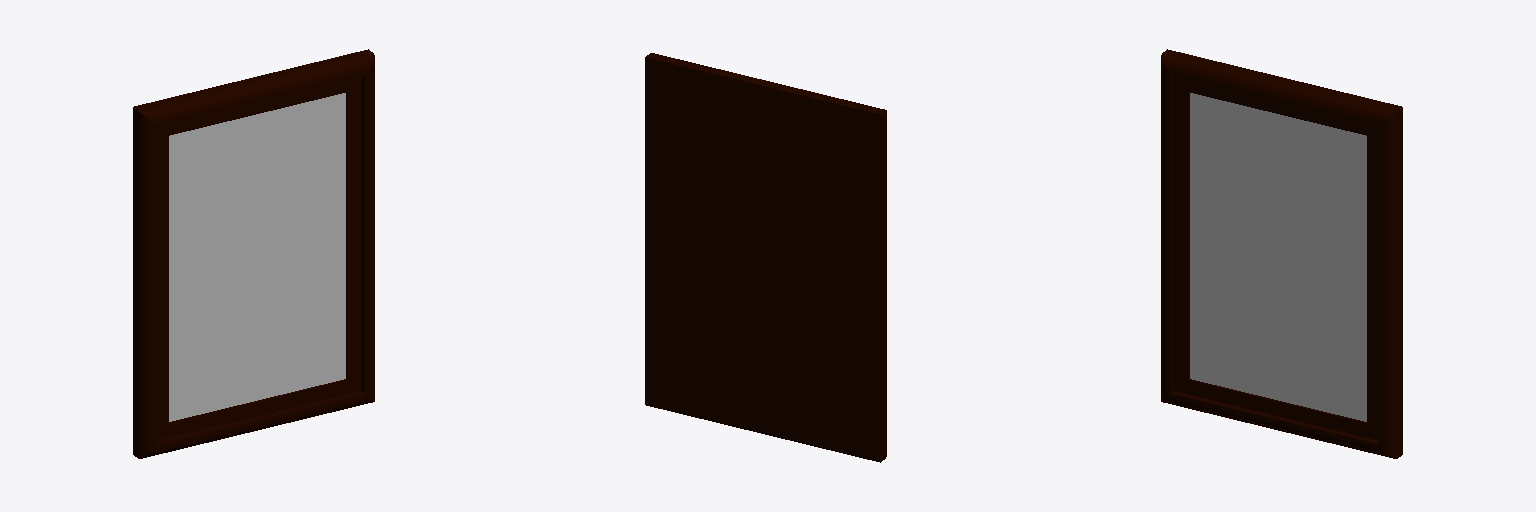
File: pintura.obj
The picture shows the model from 3 angles: view 1: azimuth 30°, elevation 25°; view 2: azimuth 150°, elevation 25°; view 3: azimuth 330°, elevation 25°; orthographic projection.
Visible parts, largest first — view 1: pintura_nunca_jamas_pintura_sirena_mat_0, pintura_nunca_jamas_marco_mat_0; view 2: pintura_nunca_jamas_marco_mat_0; view 3: pintura_nunca_jamas_pintura_sirena_mat_0, pintura_nunca_jamas_marco_mat_0.
Boxes of the visible parts, box(x1,y1,x2,y2) form: pintura_nunca_jamas_pintura_sirena_mat_0: box(169, 93, 345, 421); pintura_nunca_jamas_marco_mat_0: box(133, 49, 374, 458); pintura_nunca_jamas_marco_mat_0: box(645, 53, 886, 462); pintura_nunca_jamas_pintura_sirena_mat_0: box(1190, 93, 1366, 421); pintura_nunca_jamas_marco_mat_0: box(1161, 49, 1402, 458).
Bounding box in the file's own units: 1.35 × 1.9 × 0.1056.